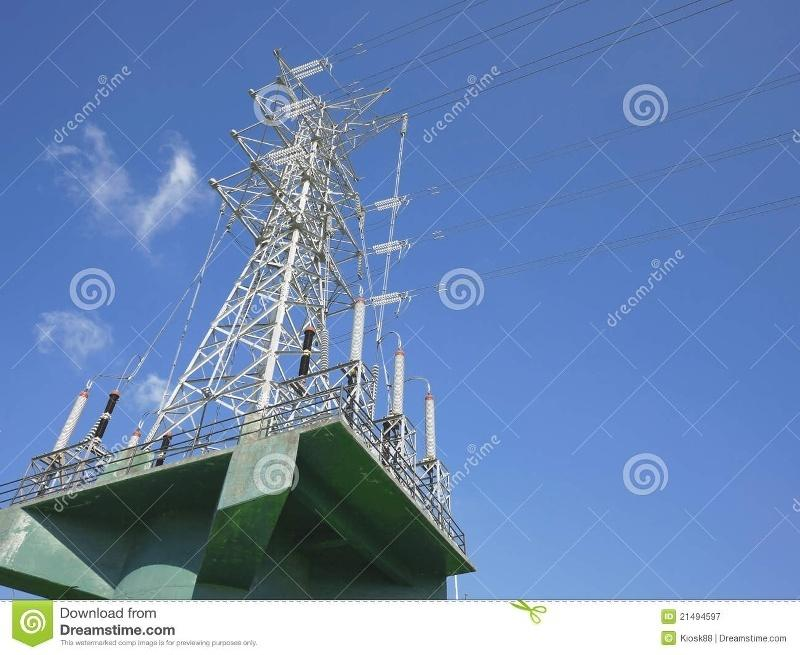power_tower: (215, 39, 358, 387)
